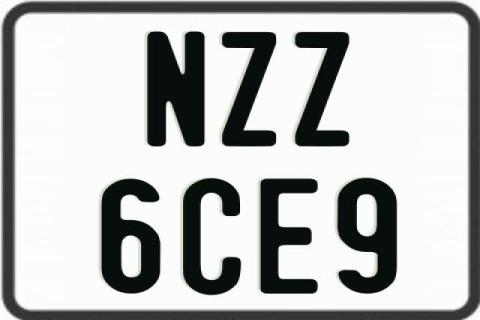0: (334, 178, 398, 298), (98, 178, 160, 298)
C: (181, 179, 240, 295)
E: (257, 178, 320, 294)
N: (145, 29, 204, 148)
Z: (294, 31, 350, 148), (221, 32, 276, 146)
